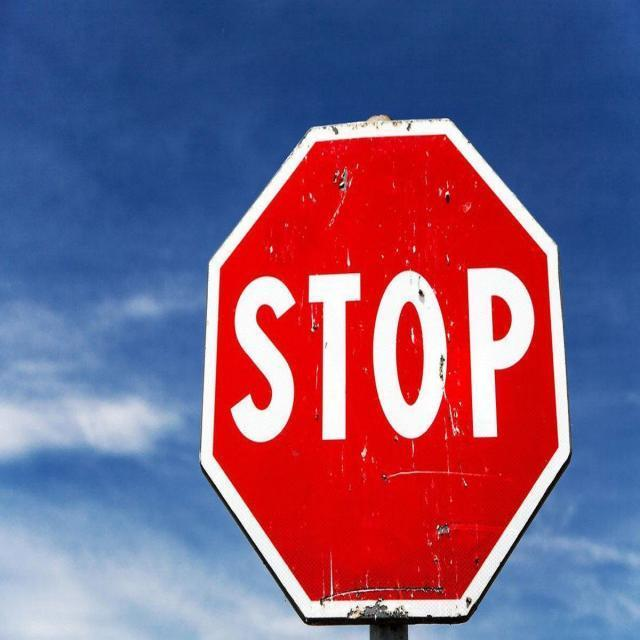stop: (198, 109, 576, 626)
